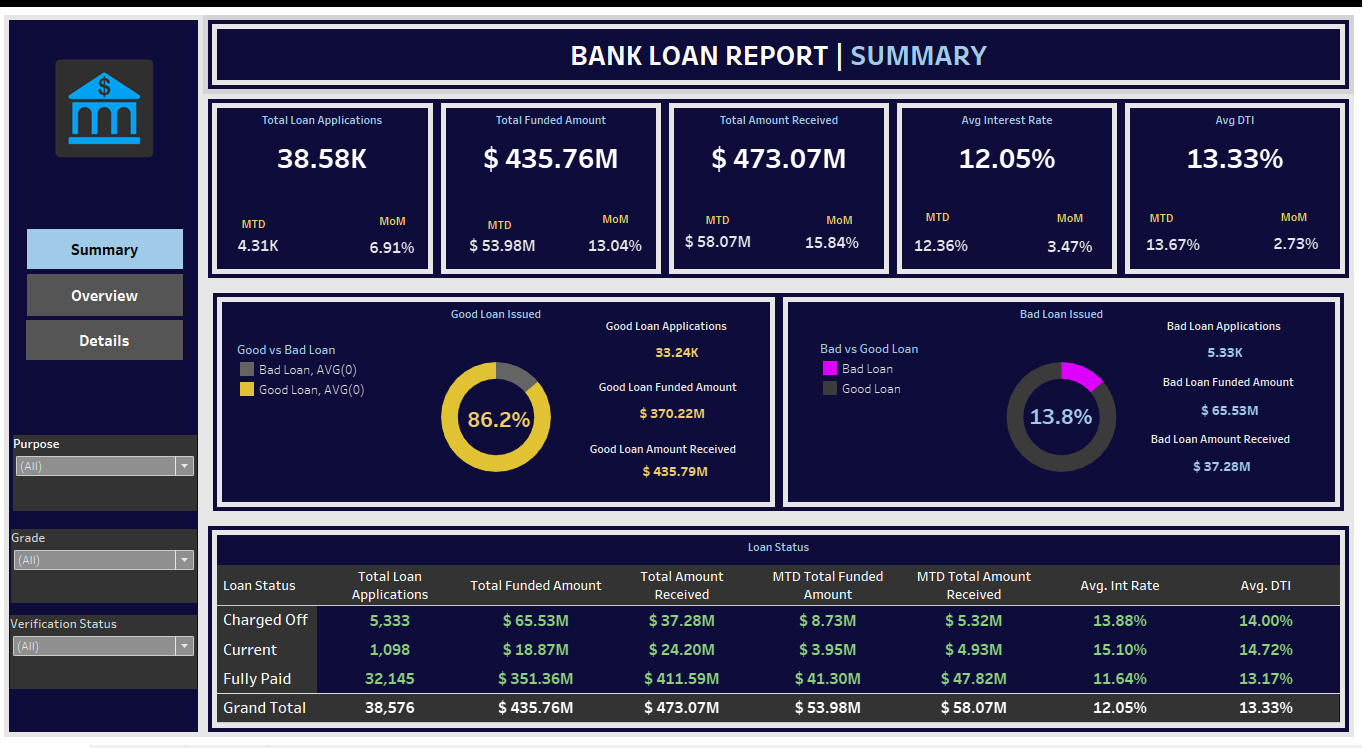

Layout of this report page (visuals, bound fields, positions):
{"tool":"tableau","page":{"name":"SUMMARY","canvas":[1000,1000],"units":"permille","ordinal":2},"visuals":[{"type":"text","box":[156.7,22,832.1,89.5]},{"type":"image","param":"Image/pngtree-bank-icon-white-background-png-image_10798288 1.png","box":[34.6,35.5,89.2,204.4]},{"type":"worksheet","title":"Total Loan Applications","mark":"Automatic","box":[156.7,128.4,166.4,237.8]},{"type":"worksheet","title":"Total Funded Amount","mark":"Automatic","box":[323.1,128.4,166.4,237.8]},{"type":"worksheet","title":"Total Amount Received","mark":"Automatic","box":[489.5,128.4,166.4,237.8]},{"type":"worksheet","title":"Avg Interest Rate","mark":"Automatic","box":[655.9,128.4,166.4,237.8]},{"type":"worksheet","title":"Avg DTI","mark":"Automatic","box":[822.3,128.4,166.4,237.8]},{"type":"text","box":[922.1,261.8,55.4,45.6]},{"type":"text","box":[757.6,263.5,57.1,45.6]},{"type":"worksheet","title":"MTD Total Amount received","mark":"Automatic","box":[497,265.2,66.7,81.1]},{"type":"text","box":[826,265.2,54.6,40.5]},{"type":"text","box":[588.7,266.9,58,42.2]},{"type":"text","box":[665.8,266.9,47.6,35.5]},{"type":"text","box":[267.5,268.6,45.9,42.2]},{"type":"text","box":[502.2,268.6,52,40.5]},{"type":"text","box":[424.2,272,58,30.4]},{"type":"text","box":[168.8,273.7,39,38.9]},{"type":"worksheet","title":"MTD Total Funded Amount","mark":"Automatic","box":[335.9,273.7,66.7,71]},{"type":"worksheet","title":"MTD Avg Interest Rate","mark":"Automatic","box":[643.3,273.7,96.1,71]},{"type":"worksheet","title":"MTD Avg DTI","mark":"Automatic","box":[828.6,273.7,64.9,67.6]},{"type":"text","box":[339.4,277,58,37.2]},{"type":"worksheet","title":"MoM Total Funded Amount","mark":"Automatic","box":[424.2,292.2,58,59.1]},{"type":"worksheet","title":"MoM Total Amount Received","mark":"Automatic","box":[587.9,293.9,57.1,60.8]},{"type":"worksheet","title":"MoM Avg Interest Rate","mark":"Automatic","box":[758.4,295.6,55.4,57.4]},{"type":"worksheet","title":"MoM Avg DTI","mark":"Automatic","box":[922.9,297.3,56.3,45.6]},{"type":"dashboard-object","box":[22.5,300.7,114.3,54.1]},{"type":"worksheet","title":"MTD Total Loan Applications","mark":"Automatic","box":[165.4,302.4,52,40.5]},{"type":"worksheet","title":"MoM Total Loan Applications","mark":"Automatic","box":[265.8,305.7,47.6,37.2]},{"type":"dashboard-object","box":[22.5,361.5,114.3,57.4]},{"type":"worksheet","title":"Good Loan Issued","mark":"Pie","rows":["Calculation_291045189548097537","Calculation_291045189550071811"],"box":[161,391.9,412.1,287.2]},{"type":"worksheet","title":"Bad Loan Issued","mark":"Pie","rows":["Calculation_291045189548097537","Calculation_291045189550071811"],"box":[573.2,391.9,411.3,287.2]},{"type":"text","box":[444.2,408.8,119.5,45.6]},{"type":"text","box":[855.4,408.8,119.5,45.6]},{"type":"dashboard-object","box":[21.7,424,115.2,54.1]},{"type":"legend","title":"Bad Loan Issued","param":"[federated.0m3zu7s0mpwzpx18f6lww16rja50].[Good vs Bad Loan  (copy)_2910451895792","box":[603.5,451,121.2,98]},{"type":"legend","title":"Good Loan Issued","param":"[federated.0m3zu7s0mpwzpx18f6lww16rja50].[Good vs Bad Loan ]\n[federated.0m3zu7s0","box":[176.6,452.7,121.2,98]},{"type":"worksheet","title":"Good Loan Applications","mark":"Automatic","box":[467.5,454.4,77.1,40.5]},{"type":"worksheet","title":"Bad Loan Applications ","mark":"Automatic","box":[868.4,454.4,75.3,37.2]},{"type":"text","box":[852,489.9,124.7,33.8]},{"type":"text","box":[439,496.6,124.7,33.8]},{"type":"worksheet","title":"Good Loan Application %","mark":"Automatic","box":[337.7,525.3,61.5,64.2]},{"type":"worksheet","title":"Bad Loan Application % ","mark":"Automatic","box":[746.3,532.1,67.5,42.2]},{"type":"worksheet","title":"Bad Loan Funded Amount ","mark":"Automatic","box":[865.8,532.1,95.2,35.5]},{"type":"worksheet","title":"Good Loan Funded Amount","mark":"Automatic","box":[458.9,537.2,92.6,37.2]},{"type":"text","box":[843.3,567.6,131.6,33.8]},{"type":"filter","title":"Good Loan Issued","param":"[federated.0m3zu7s0mpwzpx18f6lww16rja50].[none:purpose:nk]","box":[12.1,579.4,135.1,103]},{"type":"text","box":[432.9,581.1,131.6,33.8]},{"type":"worksheet","title":"Bad Loan Amount Received ","mark":"Automatic","box":[860.6,608.1,91.8,37.2]},{"type":"worksheet","title":"Good Loan Amount Received","mark":"Automatic","box":[459.7,614.9,86.6,35.5]},{"type":"worksheet","title":"Loan Status","mark":"Automatic","rows":["loan_status"],"box":[156.7,703.8,832.1,274.2]},{"type":"filter","title":"Good Loan Issued","param":"[federated.0m3zu7s0mpwzpx18f6lww16rja50].[none:grade:nk]","box":[11.3,707.8,135.9,99.7]},{"type":"filter","title":"Good Loan Issued","param":"[federated.0m3zu7s0mpwzpx18f6lww16rja50].[none:verification_status:nk]","box":[10.4,824.3,136.8,99.7]}]}

Visuals, with their boxes on the dashboard's canvas, which has no fixed pixel size, in thousandths of its width and height (x1, y1, x2, y2). These are canvas units, not pixel positions in the 1363x748 screenshot, which may show the page scaled, cropped or inside an application window:
text: {"x1": 157, "y1": 22, "x2": 989, "y2": 112}
image: {"x1": 35, "y1": 36, "x2": 124, "y2": 240}
"Total Loan Applications" worksheet: {"x1": 157, "y1": 128, "x2": 323, "y2": 366}
"Total Funded Amount" worksheet: {"x1": 323, "y1": 128, "x2": 490, "y2": 366}
"Total Amount Received" worksheet: {"x1": 490, "y1": 128, "x2": 656, "y2": 366}
"Avg Interest Rate" worksheet: {"x1": 656, "y1": 128, "x2": 822, "y2": 366}
"Avg DTI" worksheet: {"x1": 822, "y1": 128, "x2": 989, "y2": 366}
text: {"x1": 922, "y1": 262, "x2": 978, "y2": 307}
text: {"x1": 758, "y1": 264, "x2": 815, "y2": 309}
"MTD Total Amount received" worksheet: {"x1": 497, "y1": 265, "x2": 564, "y2": 346}
text: {"x1": 826, "y1": 265, "x2": 881, "y2": 306}
text: {"x1": 589, "y1": 267, "x2": 647, "y2": 309}
text: {"x1": 666, "y1": 267, "x2": 713, "y2": 302}
text: {"x1": 268, "y1": 269, "x2": 313, "y2": 311}
text: {"x1": 502, "y1": 269, "x2": 554, "y2": 309}
text: {"x1": 424, "y1": 272, "x2": 482, "y2": 302}
text: {"x1": 169, "y1": 274, "x2": 208, "y2": 313}
"MTD Total Funded Amount" worksheet: {"x1": 336, "y1": 274, "x2": 403, "y2": 345}
"MTD Avg Interest Rate" worksheet: {"x1": 643, "y1": 274, "x2": 739, "y2": 345}
"MTD Avg DTI" worksheet: {"x1": 829, "y1": 274, "x2": 894, "y2": 341}
text: {"x1": 339, "y1": 277, "x2": 397, "y2": 314}
"MoM Total Funded Amount" worksheet: {"x1": 424, "y1": 292, "x2": 482, "y2": 351}
"MoM Total Amount Received" worksheet: {"x1": 588, "y1": 294, "x2": 645, "y2": 355}
"MoM Avg Interest Rate" worksheet: {"x1": 758, "y1": 296, "x2": 814, "y2": 353}
"MoM Avg DTI" worksheet: {"x1": 923, "y1": 297, "x2": 979, "y2": 343}
dashboard-object: {"x1": 22, "y1": 301, "x2": 137, "y2": 355}
"MTD Total Loan Applications" worksheet: {"x1": 165, "y1": 302, "x2": 217, "y2": 343}
"MoM Total Loan Applications" worksheet: {"x1": 266, "y1": 306, "x2": 313, "y2": 343}
dashboard-object: {"x1": 22, "y1": 362, "x2": 137, "y2": 419}
"Good Loan Issued" worksheet (Pie marks): {"x1": 161, "y1": 392, "x2": 573, "y2": 679}
"Bad Loan Issued" worksheet (Pie marks): {"x1": 573, "y1": 392, "x2": 984, "y2": 679}
text: {"x1": 444, "y1": 409, "x2": 564, "y2": 454}
text: {"x1": 855, "y1": 409, "x2": 975, "y2": 454}
dashboard-object: {"x1": 22, "y1": 424, "x2": 137, "y2": 478}
"Bad Loan Issued" legend: {"x1": 604, "y1": 451, "x2": 725, "y2": 549}
"Good Loan Issued" legend: {"x1": 177, "y1": 453, "x2": 298, "y2": 551}
"Good Loan Applications" worksheet: {"x1": 468, "y1": 454, "x2": 545, "y2": 495}
"Bad Loan Applications " worksheet: {"x1": 868, "y1": 454, "x2": 944, "y2": 492}
text: {"x1": 852, "y1": 490, "x2": 977, "y2": 524}
text: {"x1": 439, "y1": 497, "x2": 564, "y2": 530}
"Good Loan Application %" worksheet: {"x1": 338, "y1": 525, "x2": 399, "y2": 590}
"Bad Loan Application % " worksheet: {"x1": 746, "y1": 532, "x2": 814, "y2": 574}
"Bad Loan Funded Amount " worksheet: {"x1": 866, "y1": 532, "x2": 961, "y2": 568}
"Good Loan Funded Amount" worksheet: {"x1": 459, "y1": 537, "x2": 552, "y2": 574}
text: {"x1": 843, "y1": 568, "x2": 975, "y2": 601}
"Good Loan Issued" filter: {"x1": 12, "y1": 579, "x2": 147, "y2": 682}
text: {"x1": 433, "y1": 581, "x2": 564, "y2": 615}
"Bad Loan Amount Received " worksheet: {"x1": 861, "y1": 608, "x2": 952, "y2": 645}
"Good Loan Amount Received" worksheet: {"x1": 460, "y1": 615, "x2": 546, "y2": 650}
"Loan Status" worksheet: {"x1": 157, "y1": 704, "x2": 989, "y2": 978}
"Good Loan Issued" filter: {"x1": 11, "y1": 708, "x2": 147, "y2": 808}
"Good Loan Issued" filter: {"x1": 10, "y1": 824, "x2": 147, "y2": 924}
